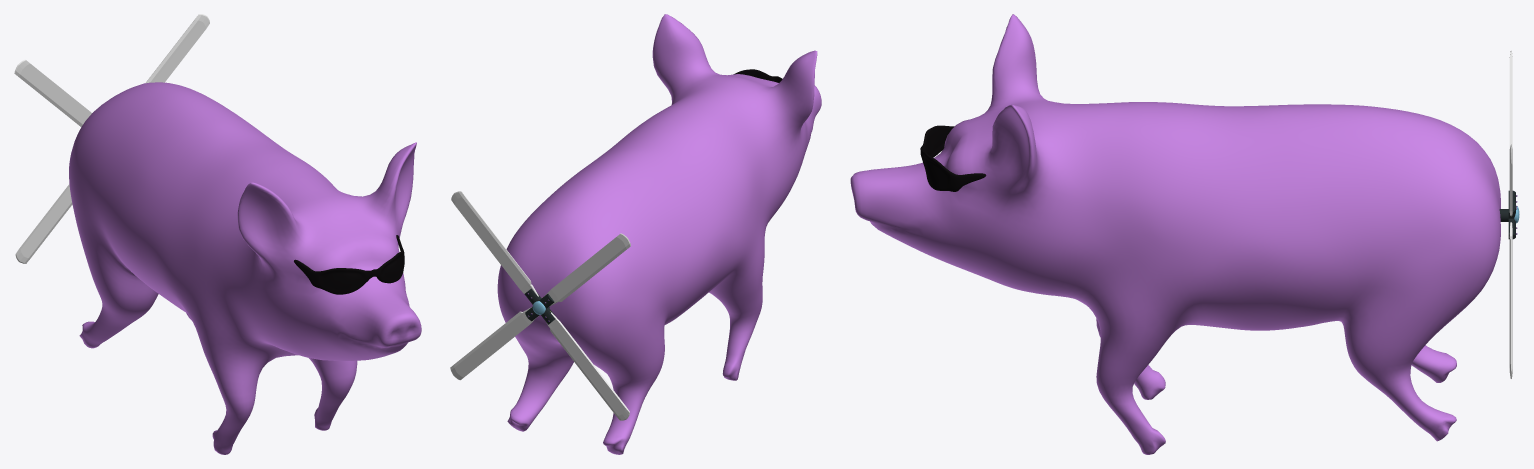
File: Pig Stock Materials.fbx
3 renders of one model, left to right at view 1: azimuth 30°, elevation 25°; view 2: azimuth 150°, elevation 25°; view 3: azimuth 270°, elevation 25°, orthographic. The views are drawn at different scales.
Visible parts, largest first — view 1: Pig, Main Shiny Rotor, Sunglasses; view 2: Pig, Main Shiny Rotor; view 3: Pig, Sunglasses, Main Shiny Rotor.
Part boxes in pixels (bbox=[...]): Pig: bbox=[69, 82, 421, 454]; Main Shiny Rotor: bbox=[14, 14, 209, 263]; Sunglasses: bbox=[294, 235, 404, 294]; Pig: bbox=[497, 14, 821, 454]; Main Shiny Rotor: bbox=[450, 191, 630, 420]; Pig: bbox=[850, 14, 1500, 454]; Sunglasses: bbox=[920, 125, 986, 191]; Main Shiny Rotor: bbox=[1508, 51, 1519, 378].
Bounding box in the file's own units: 30.86 × 48.34 × 80.06.
